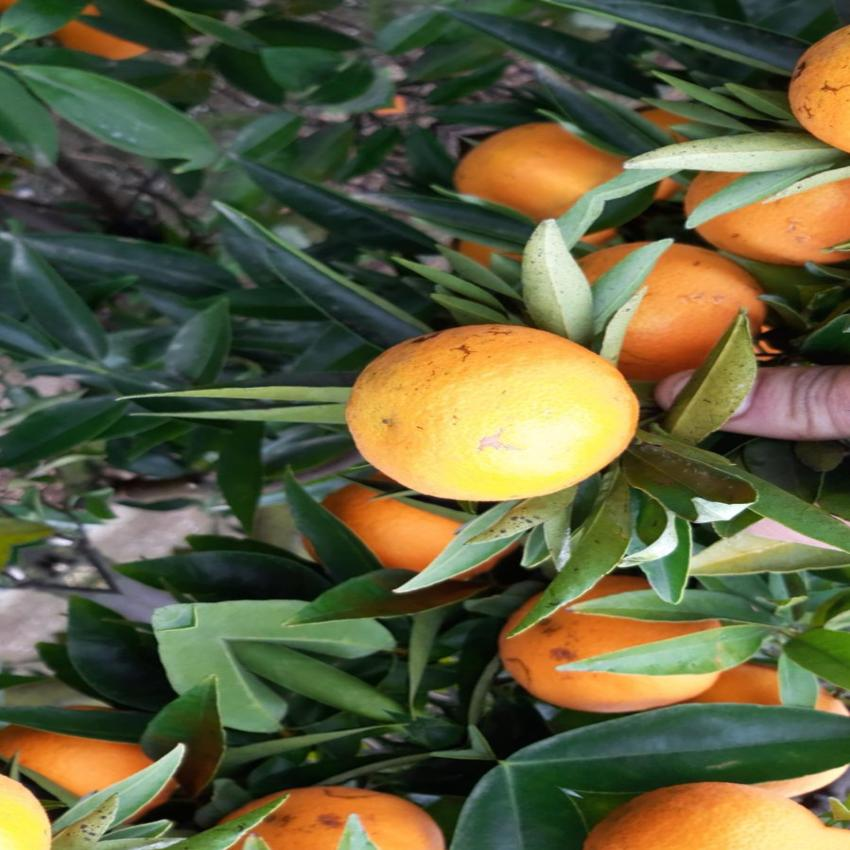Mal estado: (332, 313, 669, 506), (492, 574, 793, 721), (569, 240, 759, 374), (681, 146, 844, 274), (197, 787, 453, 845), (783, 6, 850, 153)
